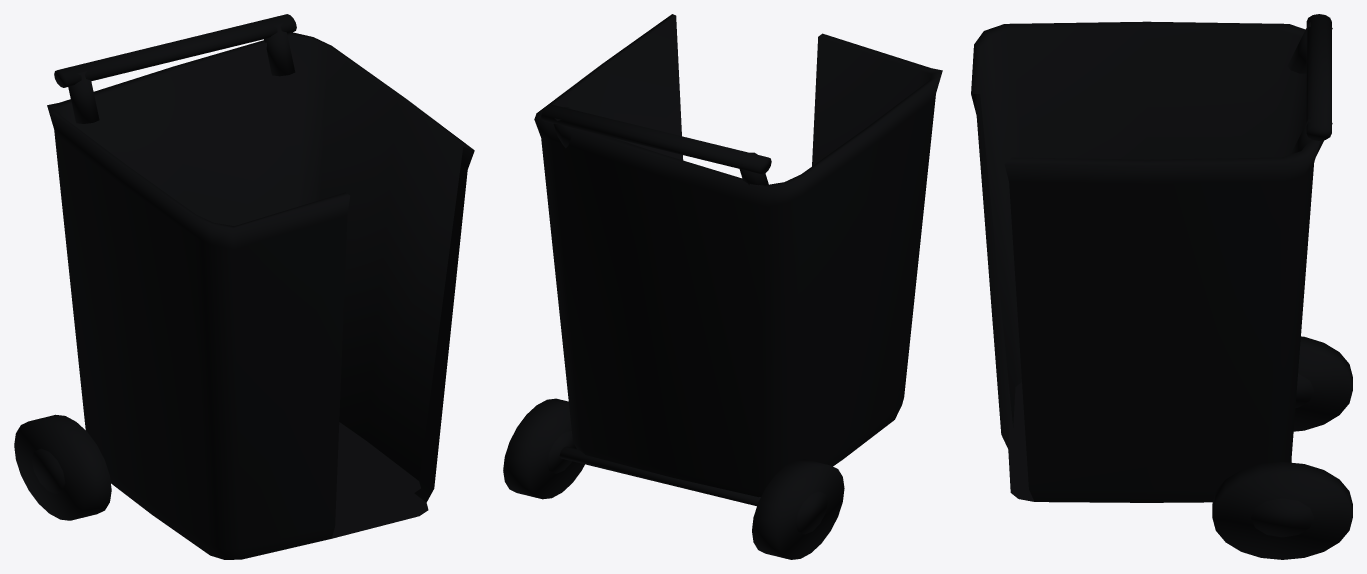
The model's file is bin-charred.glb.
3 renders of one model, left to right at view 1: azimuth 30°, elevation 25°; view 2: azimuth 150°, elevation 25°; view 3: azimuth 270°, elevation 25°, orthographic. The views are drawn at different scales.
Visible parts, largest first — view 1: bin-charred; view 2: bin-charred; view 3: bin-charred.
Boxes of the visible parts, x1,y1,x2,y2 form: bin-charred: (14,14,474,559); bin-charred: (503,14,942,559); bin-charred: (971,14,1352,559).
Bounding box in the file's own units: 0.717 × 0.988 × 0.8145.
1 material, 1 textured.
